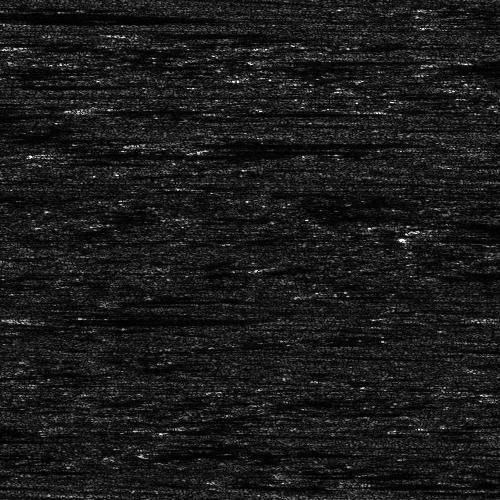object: (0, 148, 92, 159), (134, 138, 217, 149), (166, 144, 249, 155), (47, 103, 120, 114), (236, 56, 299, 65), (410, 233, 483, 240), (409, 226, 472, 231), (0, 82, 28, 87)
shadow: (46, 148, 320, 159), (207, 144, 419, 155), (176, 138, 386, 149), (84, 103, 246, 114), (268, 56, 398, 65), (143, 29, 309, 34), (0, 12, 161, 17), (2, 82, 120, 87), (0, 0, 51, 11), (225, 109, 353, 112), (446, 233, 500, 240), (440, 226, 500, 231)
